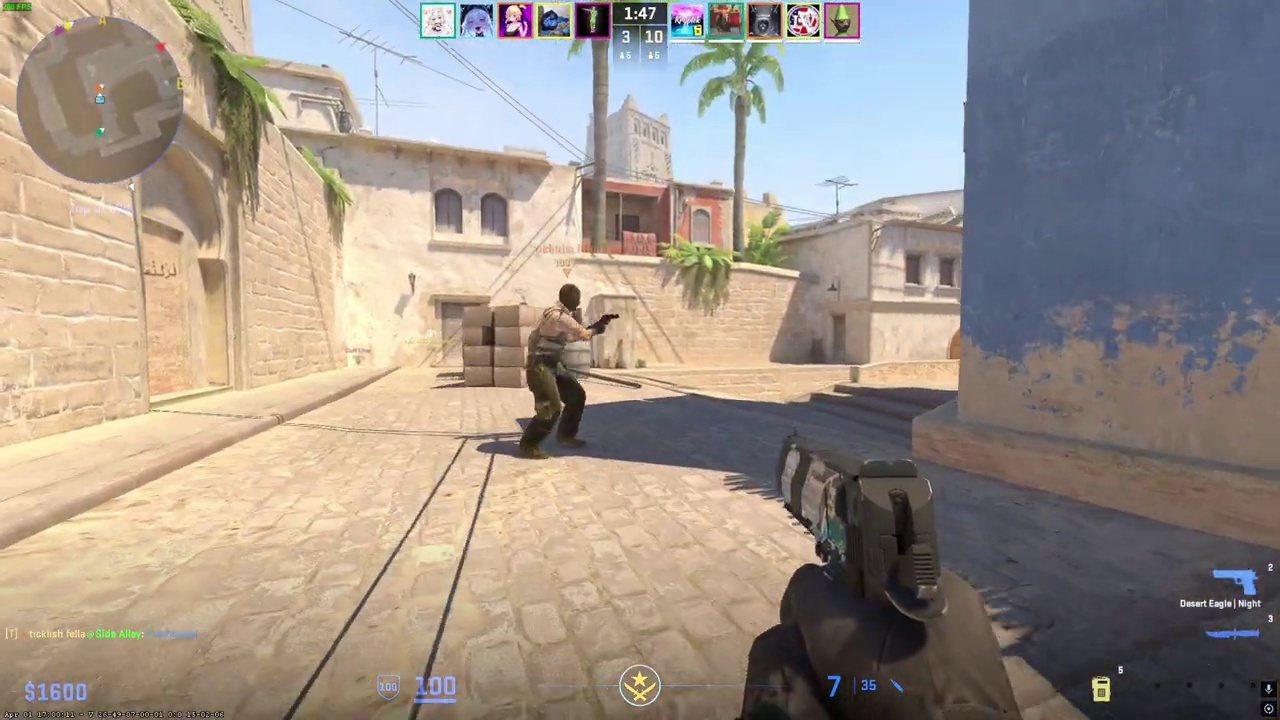Terrorist: (519, 281, 600, 461)
